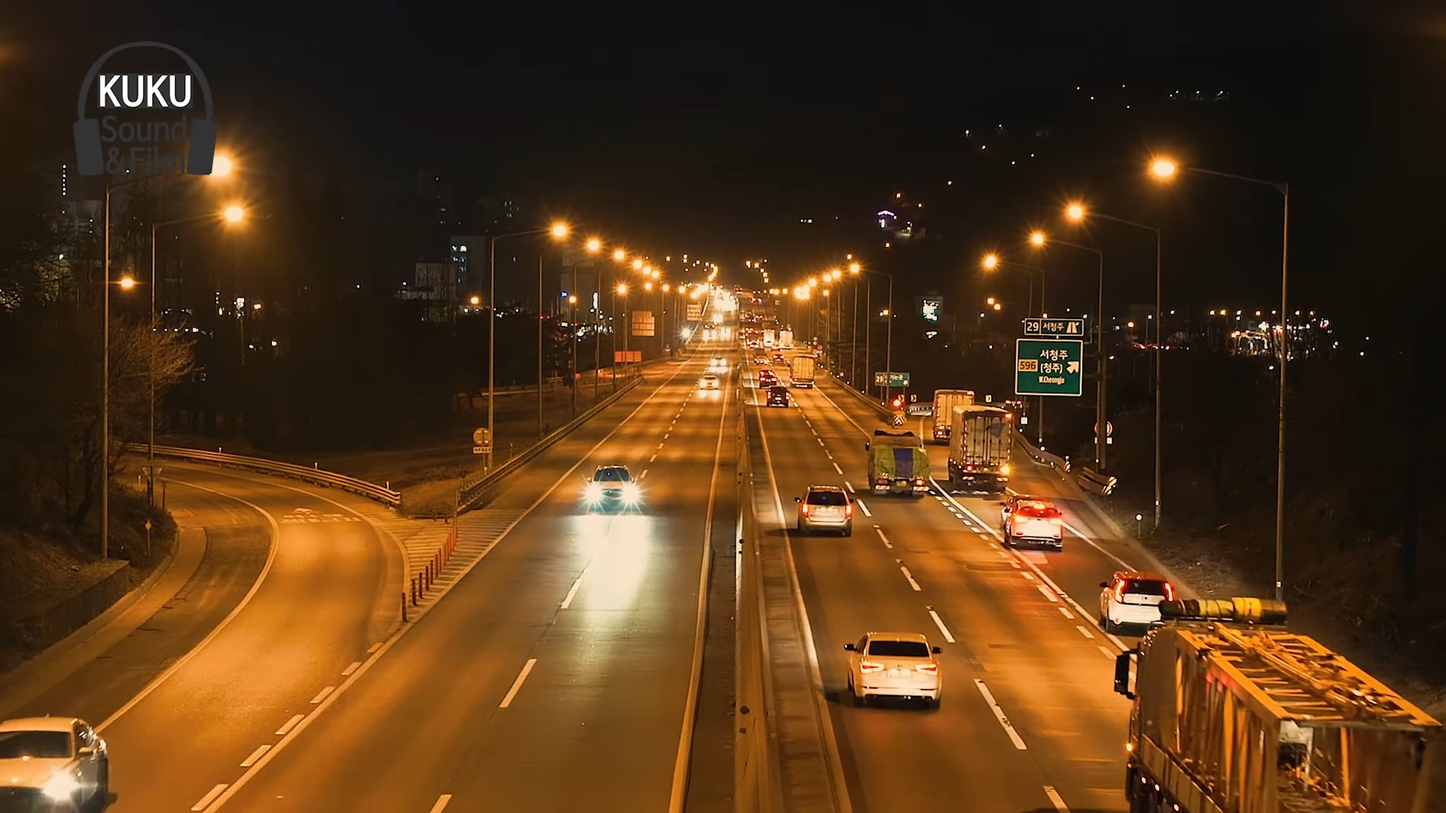car: (849, 628, 941, 706), (1102, 568, 1179, 628), (1001, 494, 1066, 553), (798, 482, 853, 538), (576, 463, 638, 509)
truck: (946, 397, 1018, 491), (864, 431, 926, 500)
